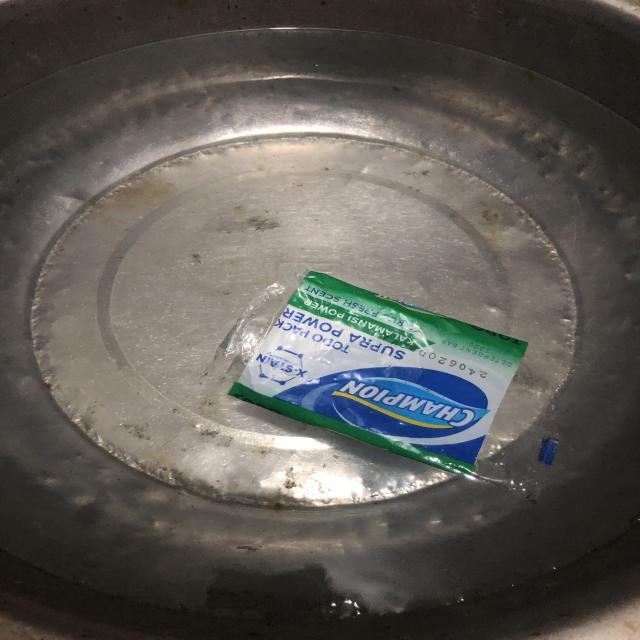Plastic Wrapper: (161, 244, 590, 520)
